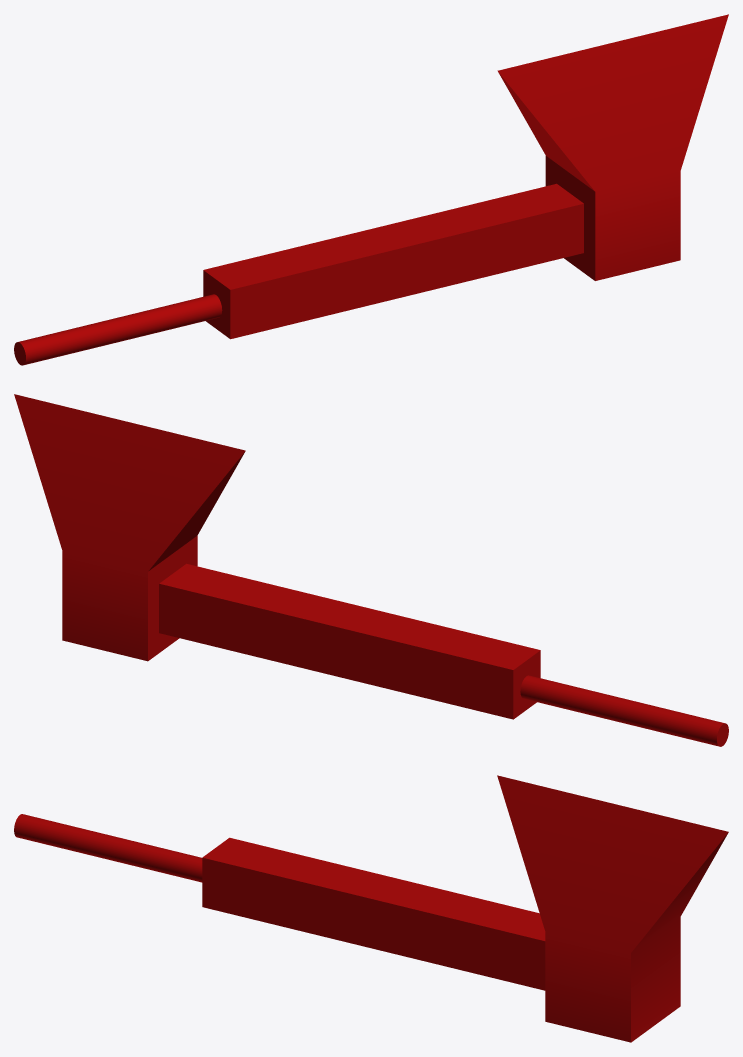
File: placeholder_hook.fbx
The picture shows the model from 3 angles, top to bottom: view 1: azimuth 30°, elevation 25°; view 2: azimuth 150°, elevation 25°; view 3: azimuth 330°, elevation 25°; orthographic projection.
Parts seen in each view (by area): view 1: pCube5; view 2: pCube5; view 3: pCube5.
Part boxes in pixels (x1=…): pCube5: x1=14, y1=14, x2=728, y2=365; pCube5: x1=14, y1=394, x2=728, y2=746; pCube5: x1=14, y1=775, x2=728, y2=1042.
Bounding box in the file's own units: 828 × 235 × 100.
